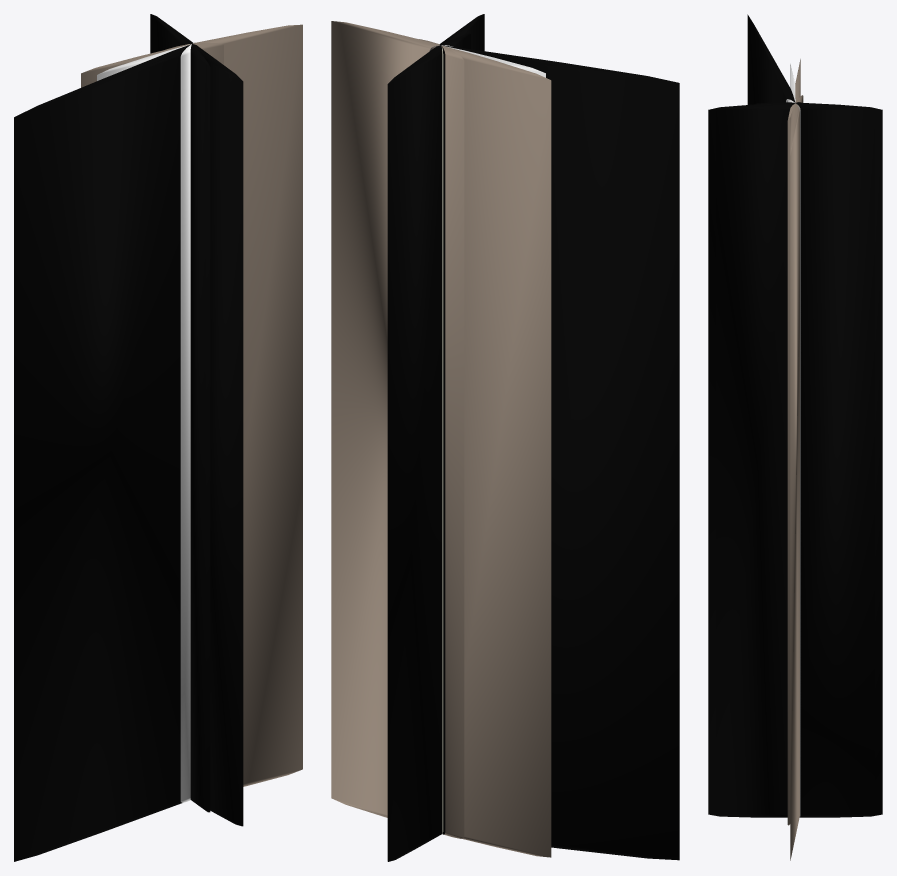
Rendered from fortiswitch.glb.
3 renders of one model, left to right at view 1: azimuth 30°, elevation 25°; view 2: azimuth 150°, elevation 25°; view 3: azimuth 270°, elevation 25°, orthographic. The views are drawn at different scales.
Parts seen in each view (by area): view 1: Curve; view 2: Curve; view 3: Curve.
Boxes of the visible parts, x1,y1,x2,y2 form: Curve: (14, 14, 302, 861); Curve: (331, 14, 679, 861); Curve: (708, 14, 882, 860).
Bounding box in the file's own units: 0.1313 × 0.304 × 0.0674.
